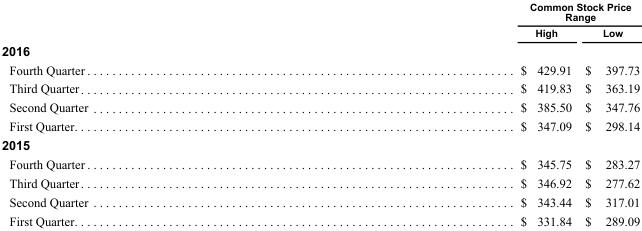table: (0, 0, 639, 227)
table column: (0, 0, 303, 227), (303, 0, 577, 227), (577, 0, 639, 227)
table column header: (0, 0, 639, 40)
table projected row header: (0, 40, 639, 59), (0, 135, 639, 154)
table row: (0, 0, 639, 24), (0, 40, 639, 59), (0, 59, 639, 78), (0, 78, 639, 97), (0, 97, 639, 116), (0, 116, 639, 135), (0, 135, 639, 154), (0, 154, 639, 173), (0, 173, 639, 192), (0, 192, 639, 211), (0, 24, 639, 40), (0, 211, 639, 227)
table spanning cell: (303, 0, 639, 24)
